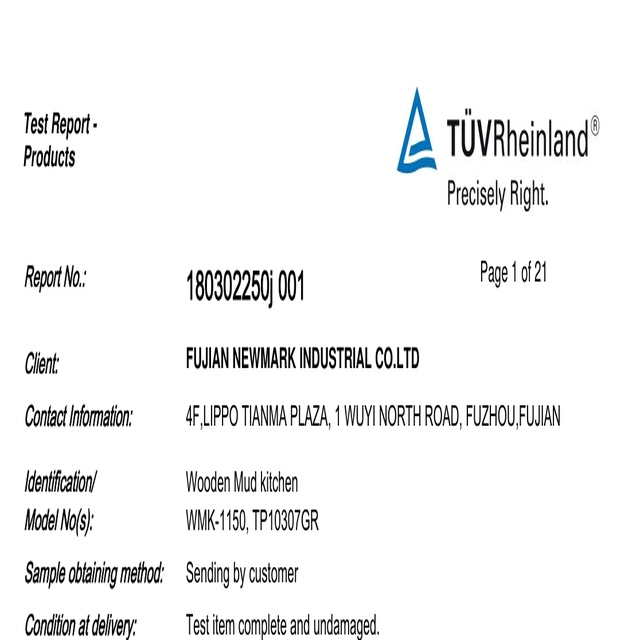tuv_rheinland: (393, 86, 599, 178)
